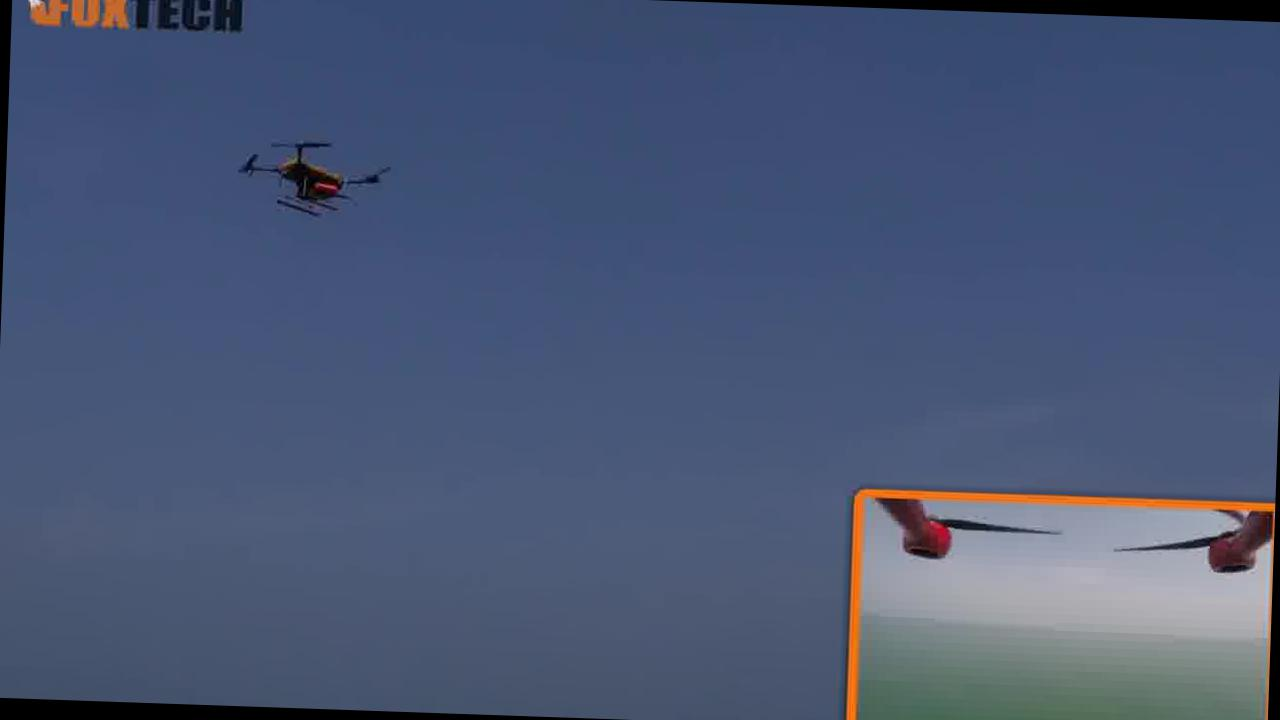drone: (230, 132, 392, 221)
